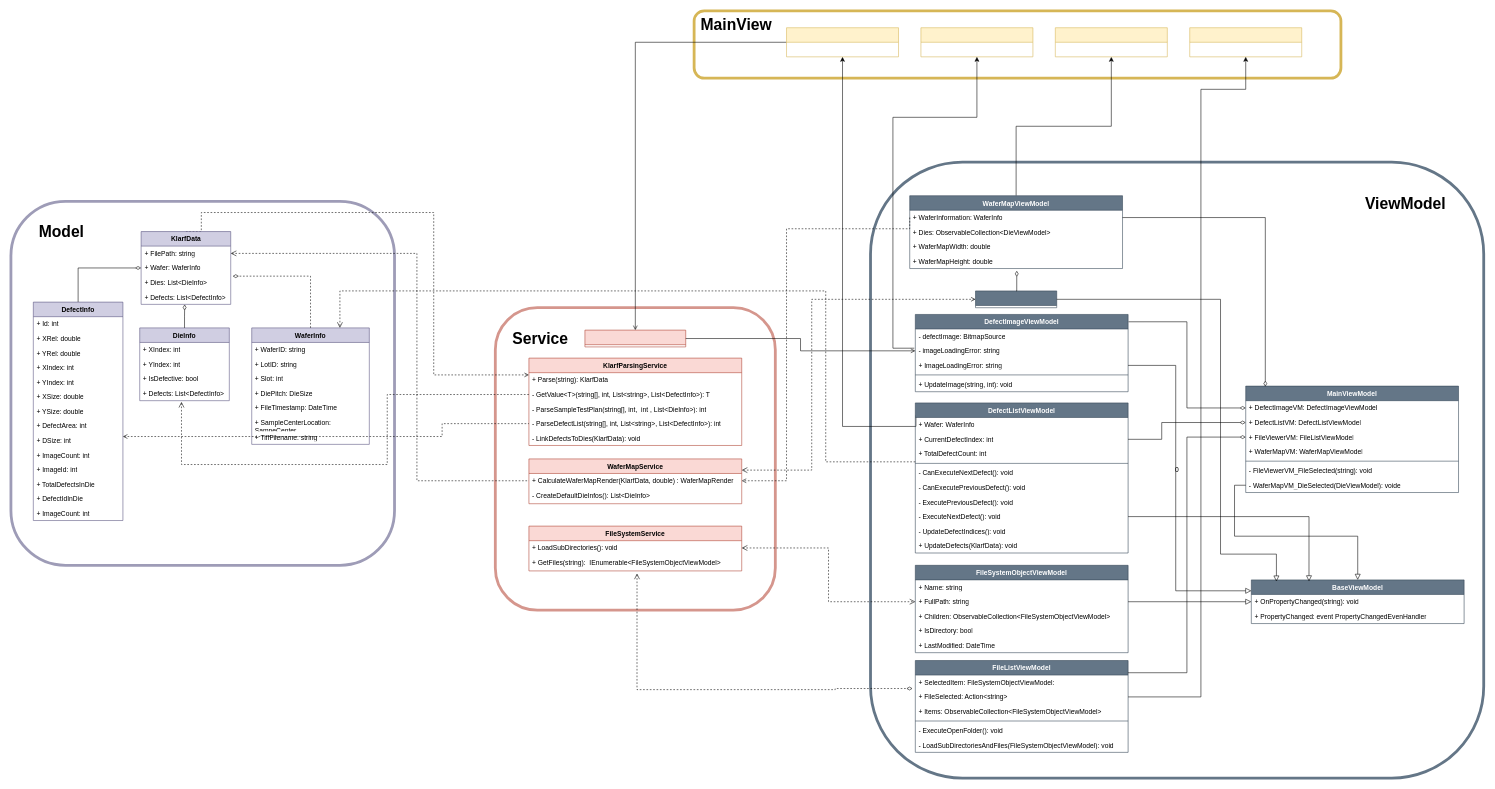
Some shapes in this 1495 by 789 pixel diagram are drawn without their labels. Each missing label, with the centre of its shape:
"<<DefectImageViewer>>" belongs at point 842,42.
"<<DefectListViewer>>" belongs at point 976,42.
"<<FileListViewer>>" belongs at point 1245,42.
"<<WaferMapViewer>>" belongs at point 1111,42.
"ImageInteractionBehavior" belongs at point 635,338.
"ShowDieViewModel" belongs at point 1016,299.
